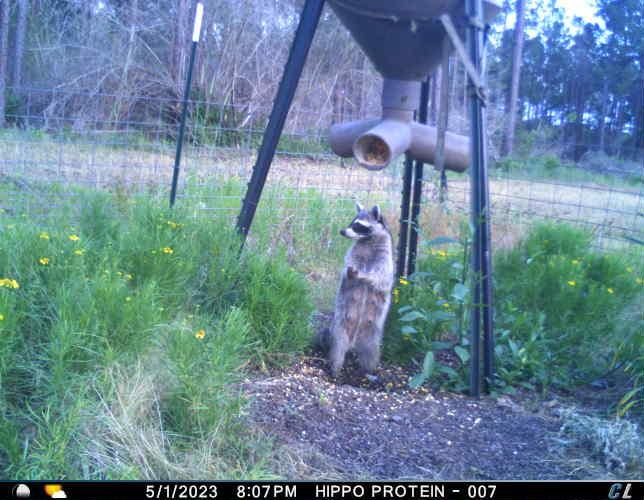Raccoon: (309, 196, 399, 387)
